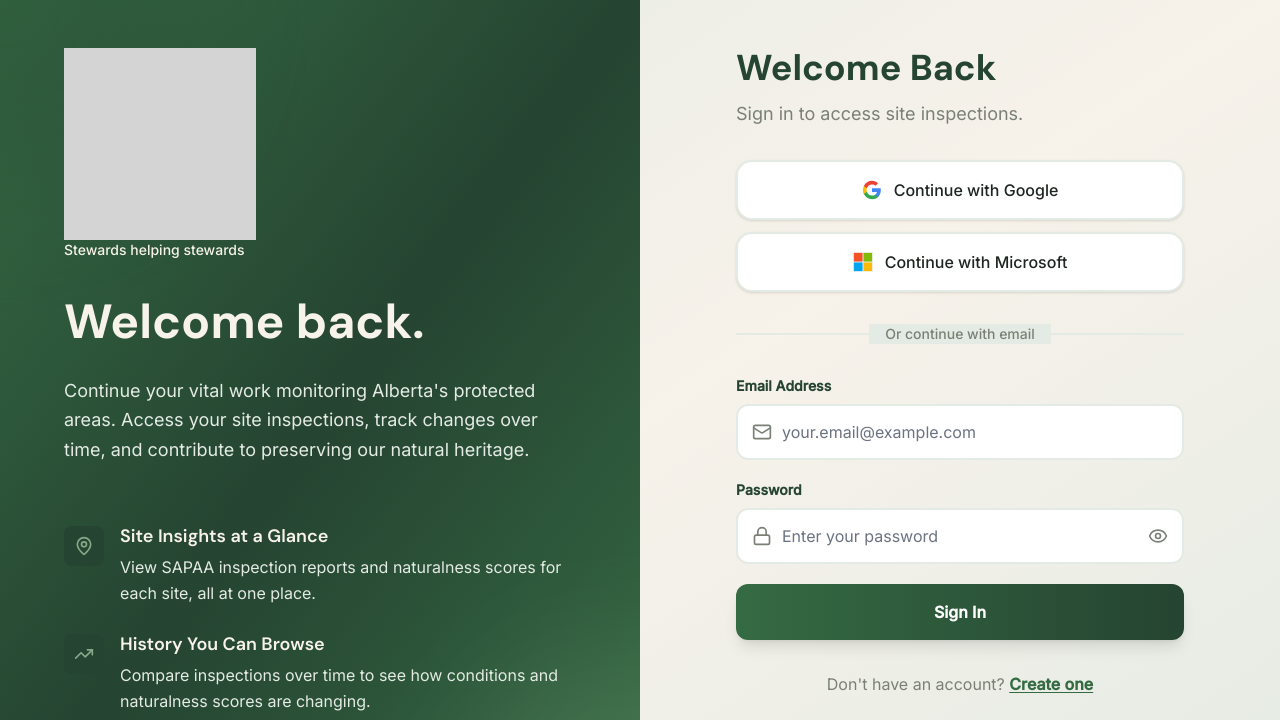
Test case: LoginPage › handles Microsoft sign-in error
What coordinates should you click on to do the following:
click the button "Continue with Microsoft"
I would click on:
 (960, 262)
Its box is x1=736 y1=232 x2=1184 y2=292.
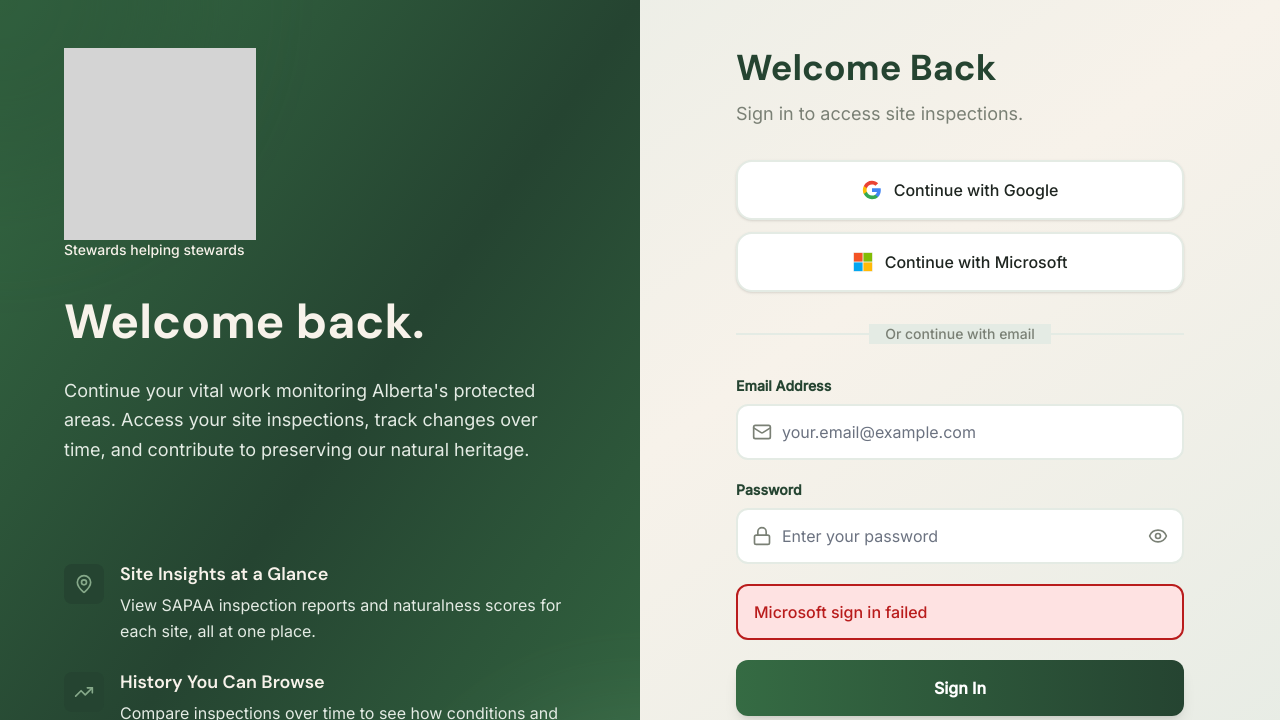
Result: the text "Microsoft sign in failed" is shown at x1=736 y1=584 x2=1184 y2=640
